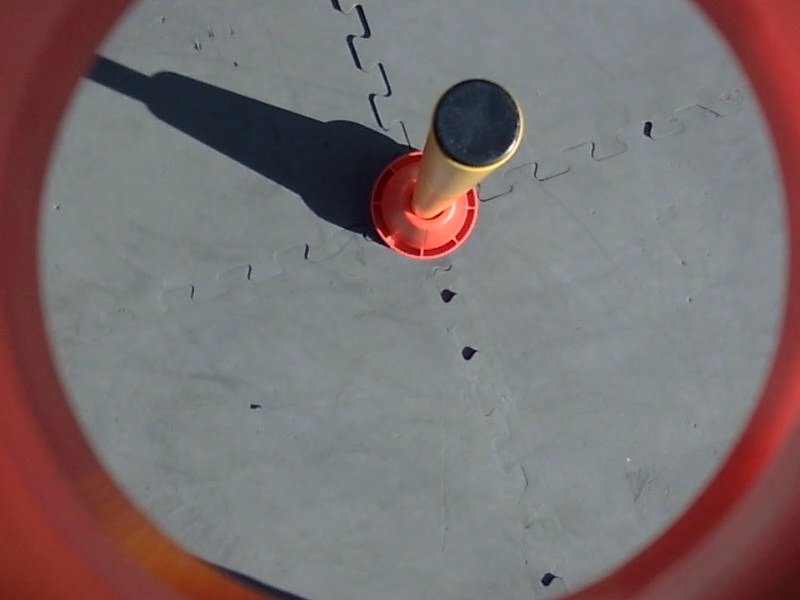tip: (427, 75, 521, 173)
